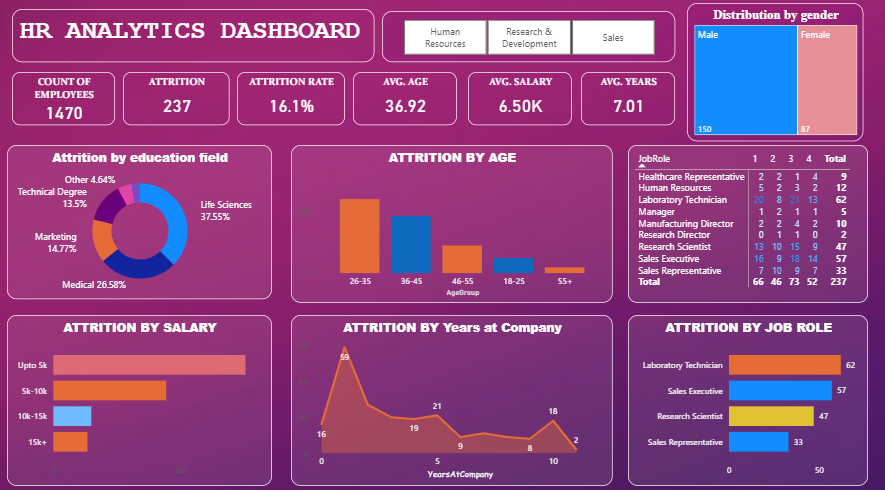

Layout of this report page (visuals, bound fields, positions):
{"tool":"powerbi","page":{"name":"Page 1","canvas":[1280,720],"ordinal":0},"visuals":[{"type":"card","title":"COUNT OF EMPLOYEES","fields":{"Values":["HR ANALYTICS (POWER  BI) rishabh mishra.EmpID"]},"box":[18.4,113.4,148.8,76.5],"z":0},{"type":"card","title":"ATTRITION ","fields":{"Values":["HR ANALYTICS (POWER  BI) rishabh mishra.AttritionCount"]},"box":[178.6,113.4,154.5,76.5],"z":1000},{"type":"card","title":"ATTRITION RATE","fields":{"Values":["HR ANALYTICS (POWER  BI) rishabh mishra.AttritionRate"]},"box":[344.4,113.4,155.9,76.5],"z":2000},{"type":"card","title":"AVG. AGE","fields":{"Values":["HR ANALYTICS (POWER  BI) rishabh mishra.Age"]},"box":[511.7,113.4,150.2,76.5],"z":3000},{"type":"card","title":"AVG. SALARY","fields":{"Values":["HR ANALYTICS (POWER  BI) rishabh mishra.MonthlyIncome"]},"box":[677.5,113.4,150.2,76.5],"z":4000},{"type":"card","title":"AVG. YEARS","fields":{"Values":["HR ANALYTICS (POWER  BI) rishabh mishra.YearsAtCompany"]},"box":[841.9,113.4,136.1,76.5],"z":5000},{"type":"donutChart","title":"Attrition by education field","fields":{"Y":["HR ANALYTICS (POWER  BI) rishabh mishra.AttritionCount"],"Category":["HR ANALYTICS (POWER  BI) rishabh mishra.EducationField"]},"box":[11.3,218.3,382.7,222.5],"z":6000},{"type":"columnChart","title":"ATTRITION BY AGE","fields":{"Y":["HR ANALYTICS (POWER  BI) rishabh mishra.Attrition"],"Category":["HR ANALYTICS (POWER  BI) rishabh mishra.AgeGroup"]},"box":[422.4,218.3,464.9,228.2],"z":7000},{"type":"pivotTable","fields":{"Columns":["HR ANALYTICS (POWER  BI) rishabh mishra.JobSatisfaction"],"Rows":["HR ANALYTICS (POWER  BI) rishabh mishra.JobRole"],"Values":["HR ANALYTICS (POWER  BI) rishabh mishra.AttritionCount"]},"box":[909.9,218.3,347.2,228.2],"z":8000},{"type":"barChart","title":"ATTRITION BY JOB ROLE","fields":{"Category":["HR ANALYTICS (POWER  BI) rishabh mishra.JobRole"],"Y":["HR ANALYTICS (POWER  BI) rishabh mishra.AttritionCount"]},"box":[909.9,463.5,347.2,246.6],"z":9000},{"type":"treemap","title":"Distribution by gender","fields":{"Group":["HR ANALYTICS (POWER  BI) rishabh mishra.Gender"],"Values":["HR ANALYTICS (POWER  BI) rishabh mishra.AttritionCount"]},"box":[995,12.8,255.1,199.8],"z":10000},{"type":"slicer","title":"DEPARTMENT","fields":{"Values":["HR ANALYTICS (POWER  BI) rishabh mishra.Department"]},"box":[554.2,24.1,423.8,73.7],"z":11000},{"type":"clusteredBarChart","title":"ATTRITION BY SALARY","fields":{"Category":["HR ANALYTICS (POWER  BI) rishabh mishra.SalarySlab"],"Y":["HR ANALYTICS (POWER  BI) rishabh mishra.Attrition"]},"box":[11.3,463.5,382.7,246.6],"z":12000},{"type":"areaChart","title":"ATTRITION BY Years at Company","fields":{"Y":["HR ANALYTICS (POWER  BI) rishabh mishra.AttritionCount"],"Category":["HR ANALYTICS (POWER  BI) rishabh mishra.YearsAtCompany"]},"box":[422.4,463.5,464.9,246.6],"z":13000},{"type":"textbox","box":[18.4,21.3,524.4,76.5],"z":14000}]}

Visuals, with their boxes in screenshot pixels (x1, y1, x2, y2), scaled from the page's 1280x720 canvas onto the 885x490 screenshot:
"COUNT OF EMPLOYEES" card: Rect(13, 77, 116, 129)
"ATTRITION " card: Rect(123, 77, 230, 129)
"ATTRITION RATE" card: Rect(238, 77, 346, 129)
"AVG. AGE" card: Rect(354, 77, 458, 129)
"AVG. SALARY" card: Rect(468, 77, 572, 129)
"AVG. YEARS" card: Rect(582, 77, 676, 129)
"Attrition by education field" donutChart: Rect(8, 149, 272, 300)
"ATTRITION BY AGE" columnChart: Rect(292, 149, 613, 304)
pivotTable - HR ANALYTICS (POWER  BI) rishabh mishra.JobSatisfaction x HR ANALYTICS (POWER  BI) rishabh mishra.JobRole: Rect(629, 149, 869, 304)
"ATTRITION BY JOB ROLE" barChart: Rect(629, 315, 869, 483)
"Distribution by gender" treemap: Rect(688, 9, 864, 145)
"DEPARTMENT" slicer: Rect(383, 16, 676, 67)
"ATTRITION BY SALARY" clusteredBarChart: Rect(8, 315, 272, 483)
"ATTRITION BY Years at Company" areaChart: Rect(292, 315, 613, 483)
textbox: Rect(13, 14, 375, 67)
